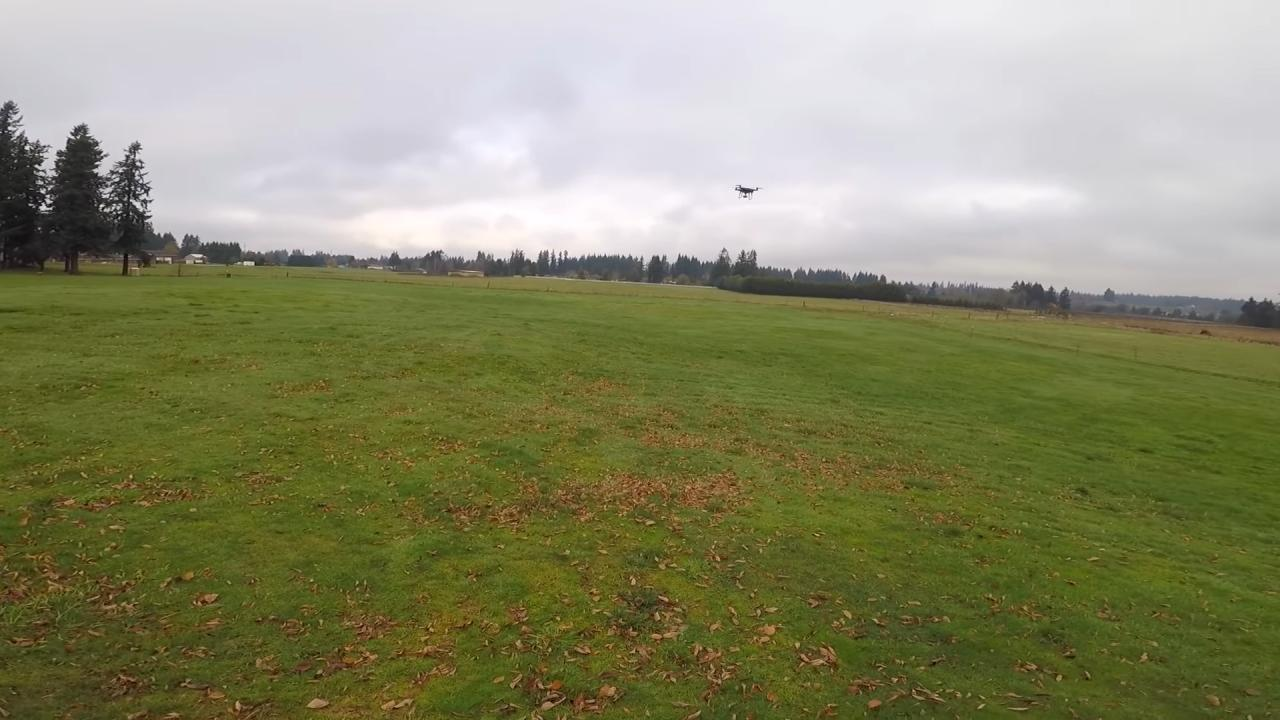Drone: (729, 176, 766, 204)
